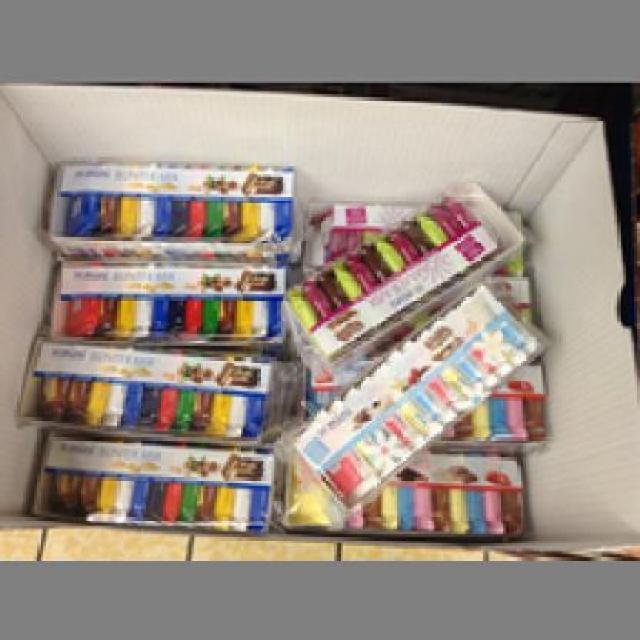Chocolate bar: (289, 291, 537, 503), (286, 189, 503, 360), (11, 331, 280, 440), (23, 429, 280, 534), (40, 157, 300, 257), (46, 251, 286, 340)
